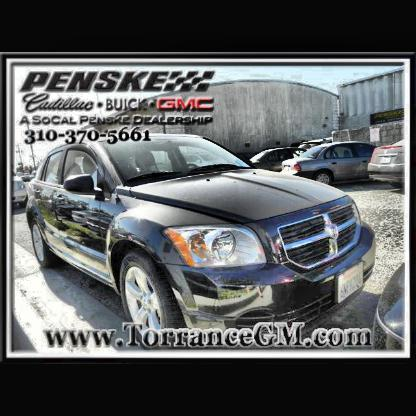Dodge Caliber Wagon 2012: (25, 134, 379, 349)
